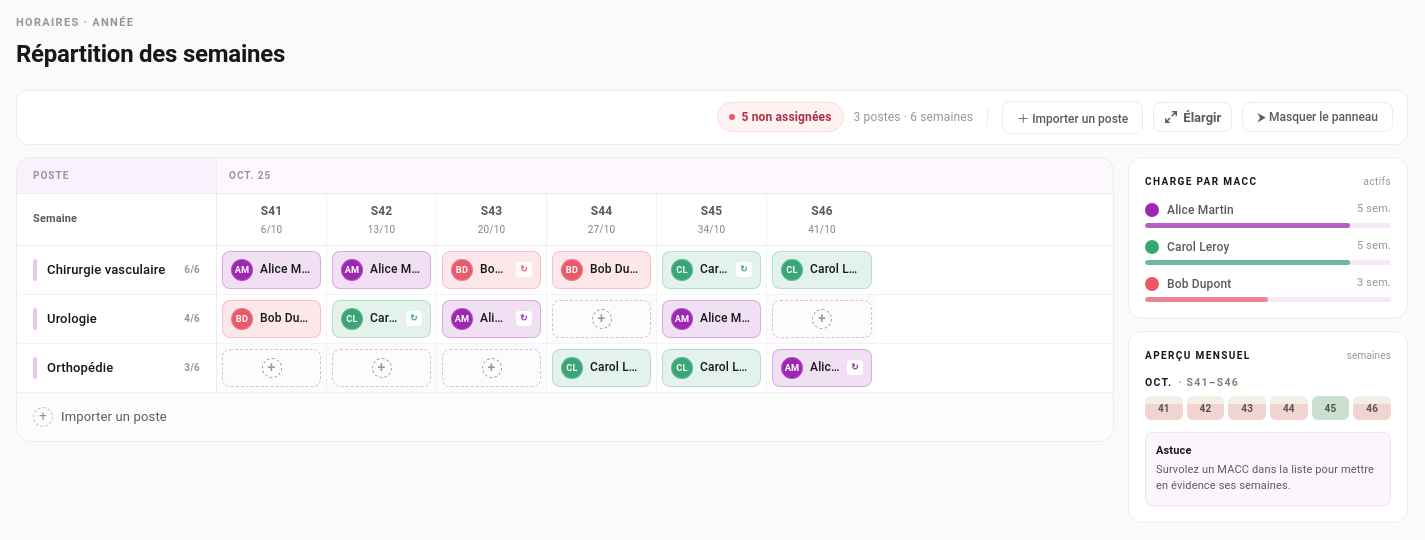
Scenario: WeekScheduleTable — badge navigation cyclique › affiche 2/5 après le deuxième clic
The width and height of the screenshot is (1425, 540).
Click the text "5 non assignées".
click(780, 117)  # box [718, 102, 844, 132]
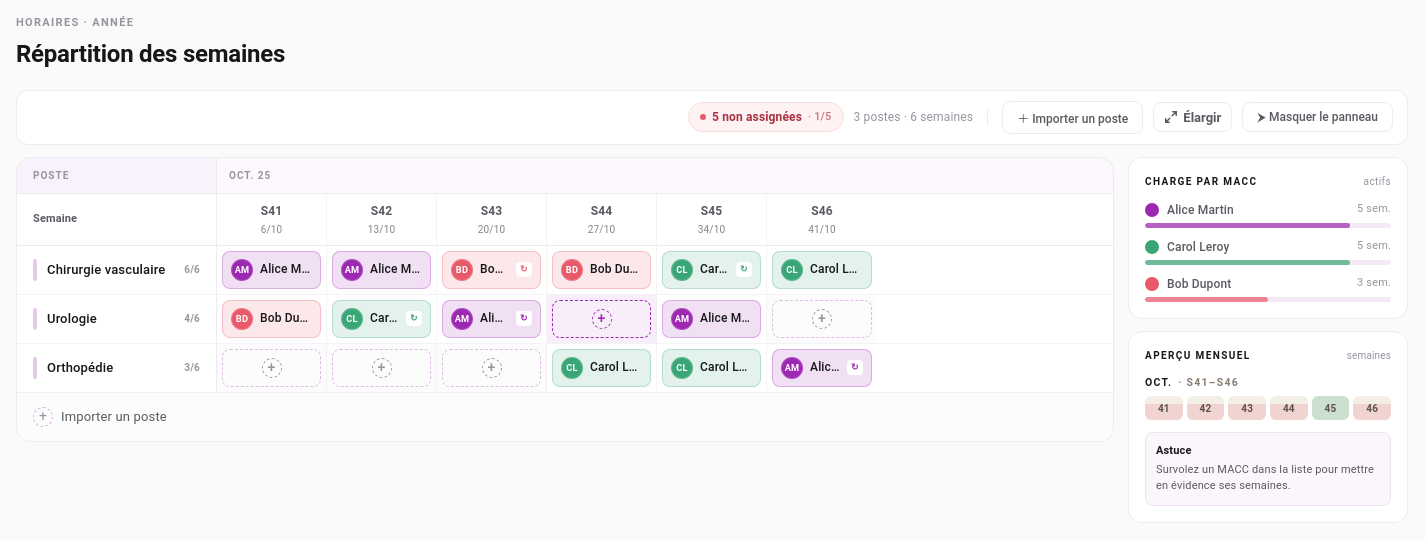
Click the text "5 non assignées · 1/5".
click(766, 117)  # box [688, 102, 844, 132]
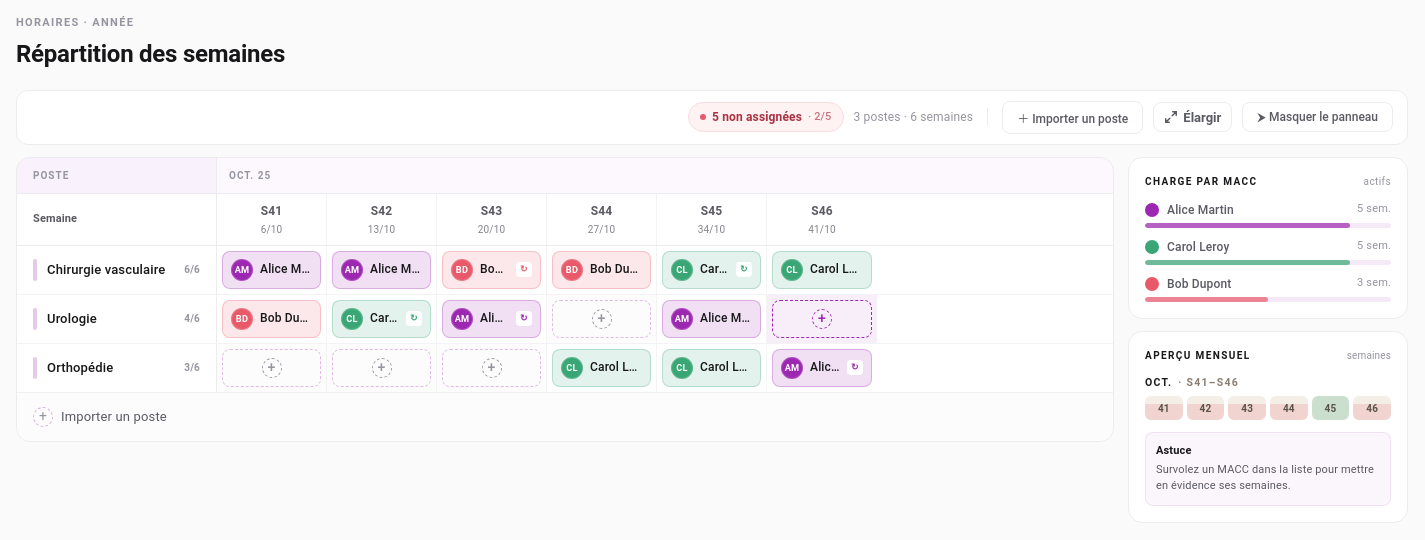
Check: the text "· 2/5" is shown, box [808, 109, 832, 125]
